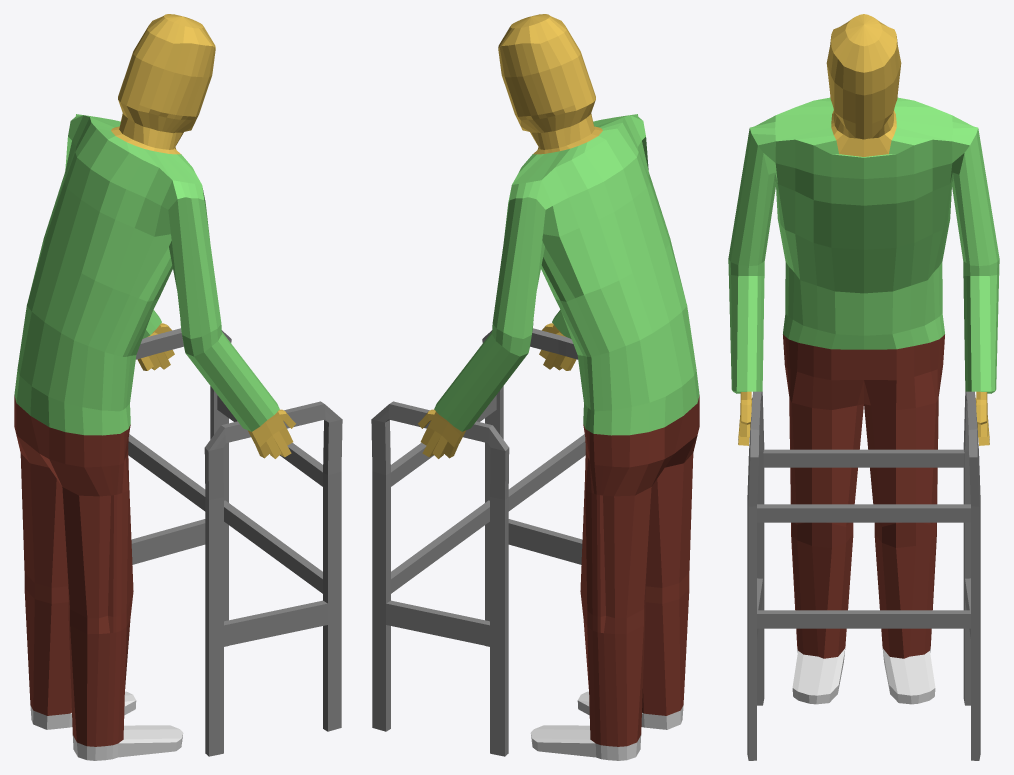
Rendered from SM_Human03.fbx.
3 views of the same model, side by side, from view 1: azimuth 30°, elevation 25°; view 2: azimuth 150°, elevation 25°; view 3: azimuth 270°, elevation 25° (orthographic).
Visible parts, largest first — view 1: SM_Human03; view 2: SM_Human03; view 3: SM_Human03.
Boxes of the visible parts, x1,y1,x2,y2 form: SM_Human03: (14,14,342,760); SM_Human03: (371,14,699,760); SM_Human03: (728,14,999,760).
Size of the model in its own units: 31.18 by 81.97 by 29.
